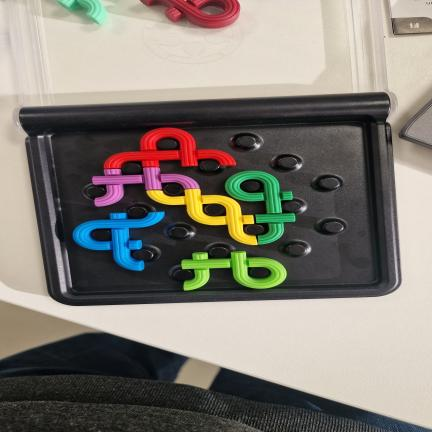A_Yellow: (147, 189, 257, 244)
B_SkyBlue: (73, 213, 164, 270)
D_Green: (226, 171, 295, 244)
E_Red: (104, 128, 235, 169)
H_Purple: (93, 168, 199, 206)
K_YellowGreen: (182, 252, 286, 290)
board: (21, 93, 400, 306)
hinge: (20, 92, 396, 134)
pin: (169, 226, 189, 239), (199, 160, 220, 172), (163, 184, 184, 196), (319, 177, 340, 189), (204, 204, 225, 216), (323, 221, 344, 233), (249, 267, 270, 279), (157, 138, 177, 150), (236, 136, 256, 148), (128, 206, 148, 218), (286, 244, 306, 256), (174, 269, 194, 281), (122, 162, 141, 174), (86, 186, 105, 198), (283, 201, 302, 213), (134, 249, 153, 261), (278, 157, 298, 168), (91, 230, 111, 241), (209, 247, 229, 258), (241, 181, 260, 192), (245, 224, 264, 235)
